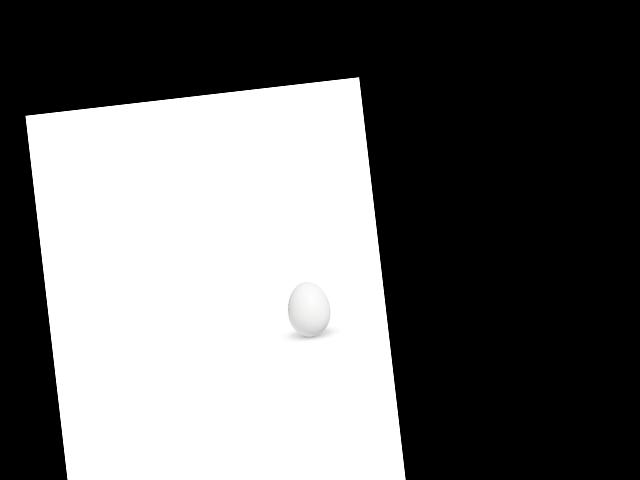egg: (285, 279, 333, 338)
